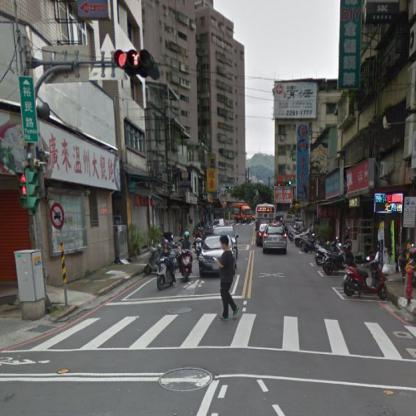Red Light: (112, 49, 153, 73)
